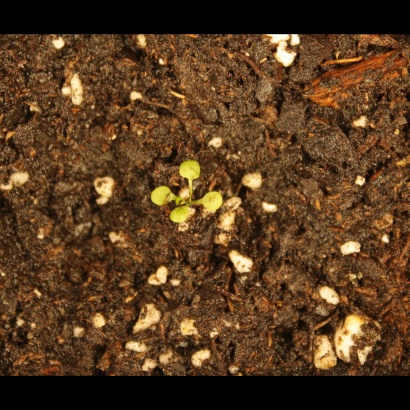leaf: (198, 189, 228, 216), (176, 156, 206, 182), (146, 183, 176, 206), (167, 207, 194, 230)
